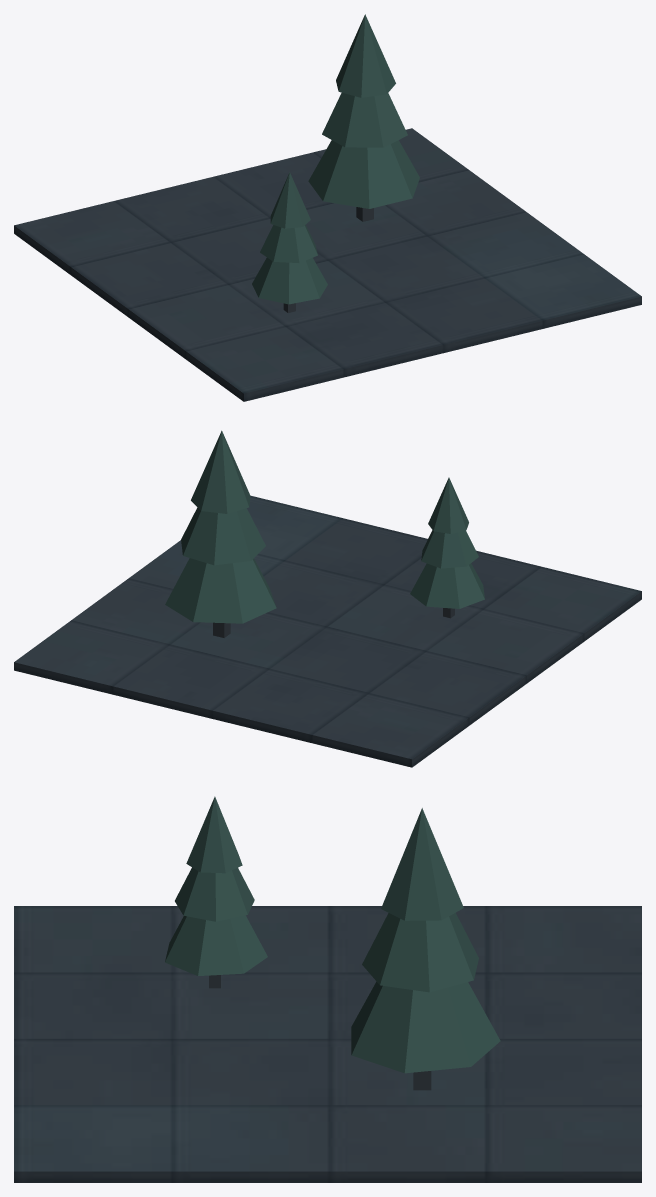
File: decor-trees.glb
3 renders of one model, top to bottom at view 1: azimuth 30°, elevation 25°; view 2: azimuth 150°, elevation 25°; view 3: azimuth 270°, elevation 25°, orthographic. The views are drawn at different scales.
Parts seen in each view (by area): view 1: DecorTrees; view 2: DecorTrees; view 3: DecorTrees.
Boxes of the visible parts, x1,y1,x2,y2 form: DecorTrees: (14,14,641,401); DecorTrees: (14,430,641,767); DecorTrees: (14,796,641,1182).
Bounding box in the file's own units: 1 × 0.51 × 1.
Materials: 3 (1 with a texture image).
